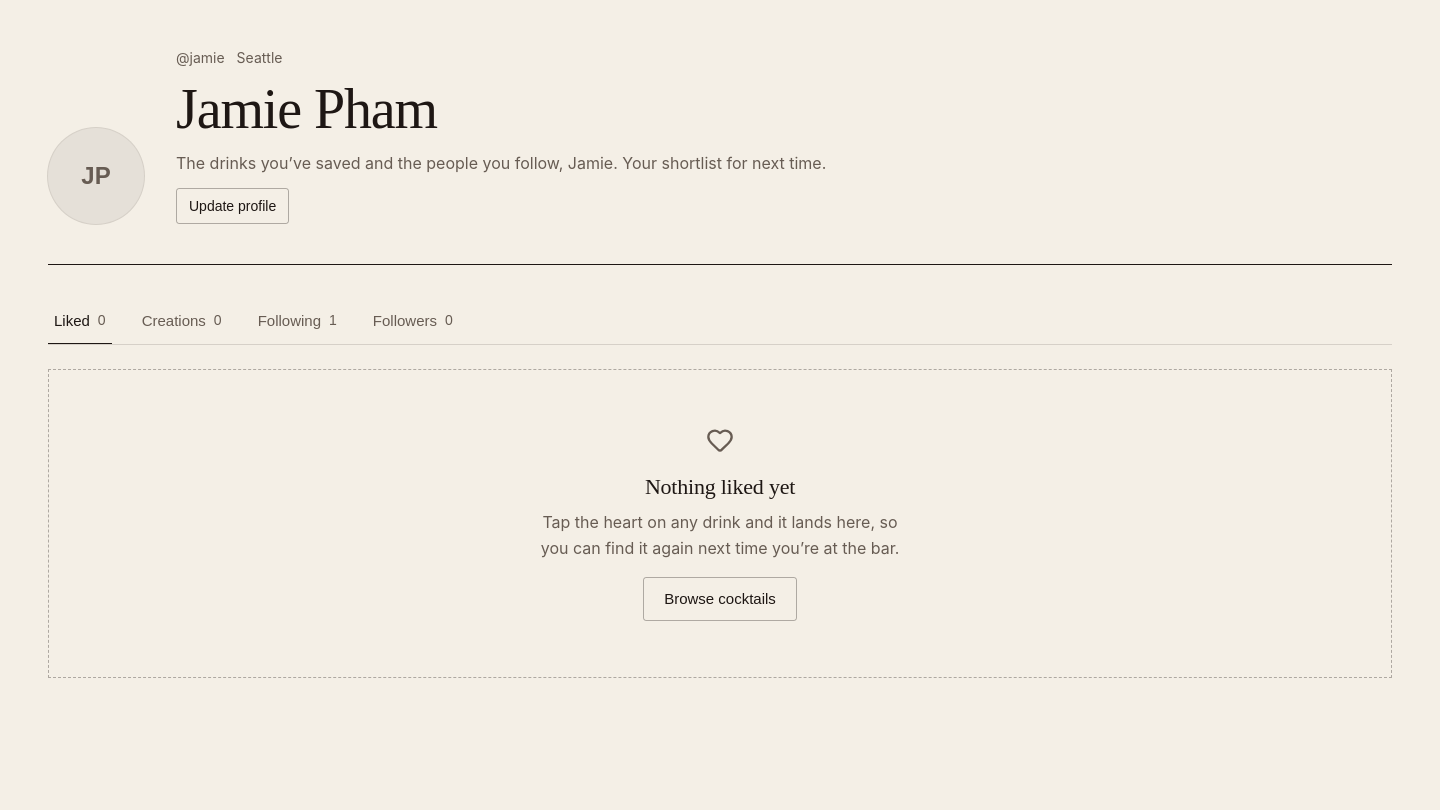
Profile — Following/Followers tabs › still unfollows via the existing DELETE /follows mutation, and the row disappears
The width and height of the screenshot is (1440, 810).
Click the tab "Following 1".
click(297, 321)  # box [252, 297, 343, 345]
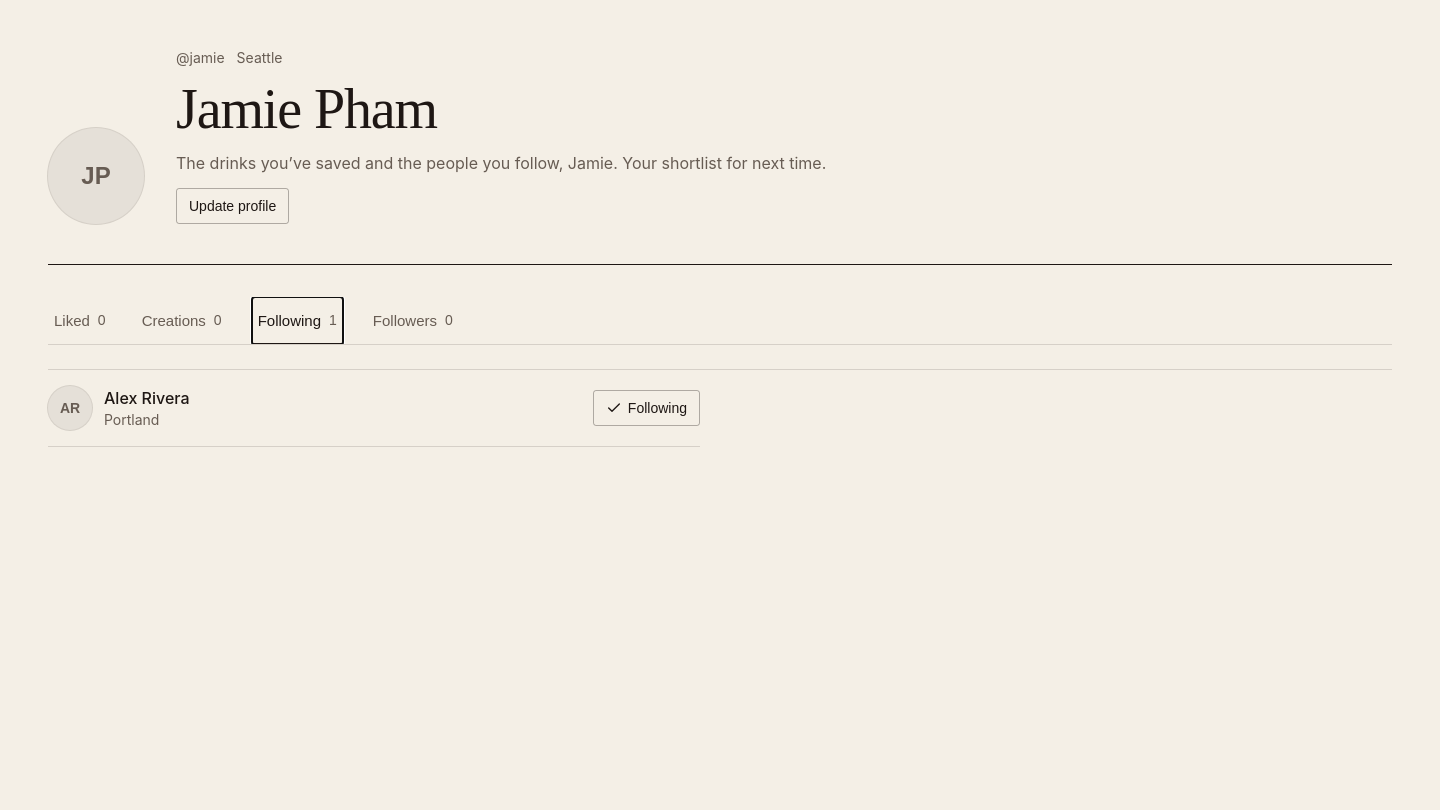
Now the text "Alex Rivera" is shown, box [104, 386, 190, 410]
Click the button with aria-label "follow alex rivera".
click(646, 408)  # box [593, 390, 700, 426]
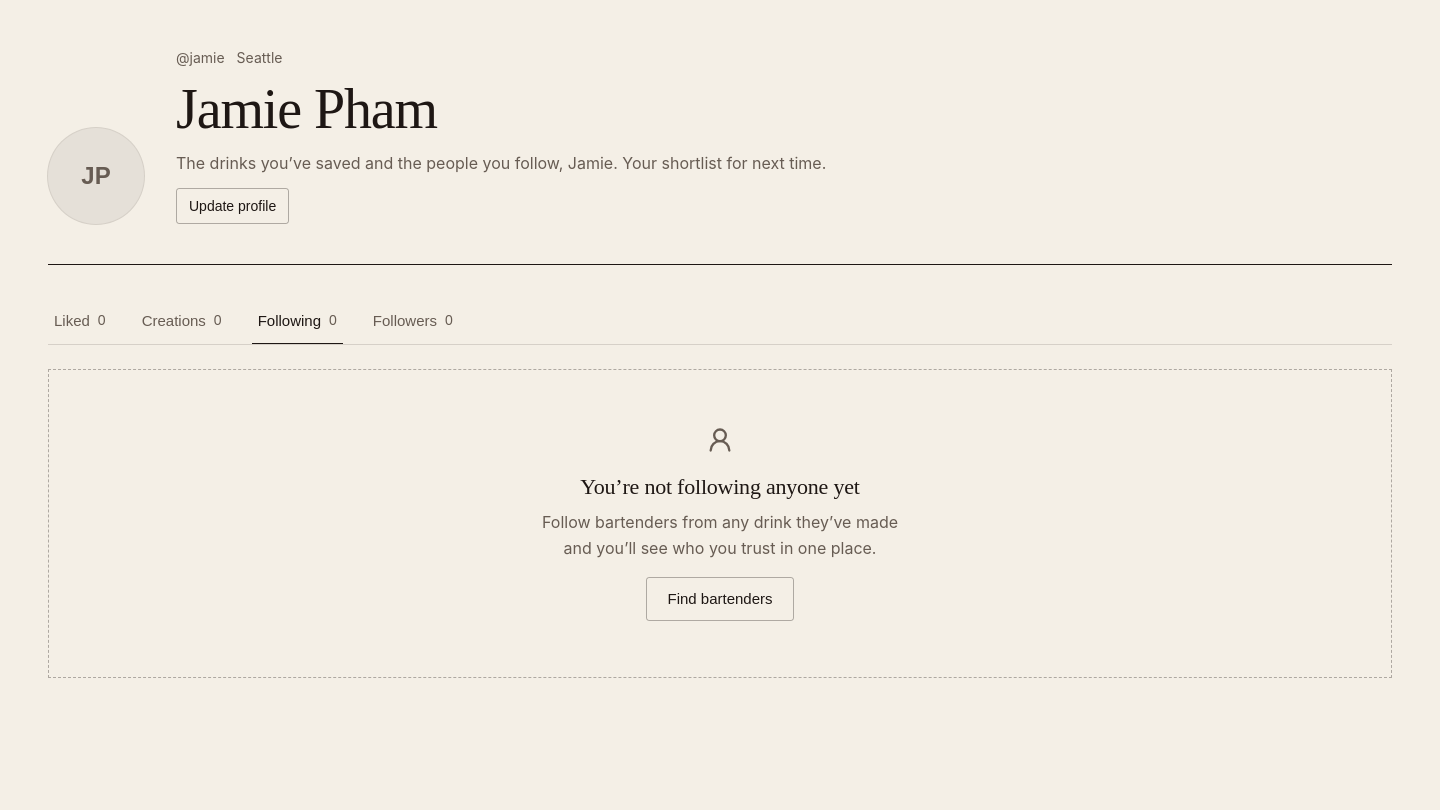
Now the text "Alex Rivera" is gone
